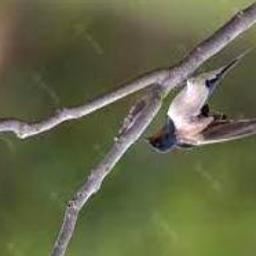Swallow: (143, 49, 256, 154)
